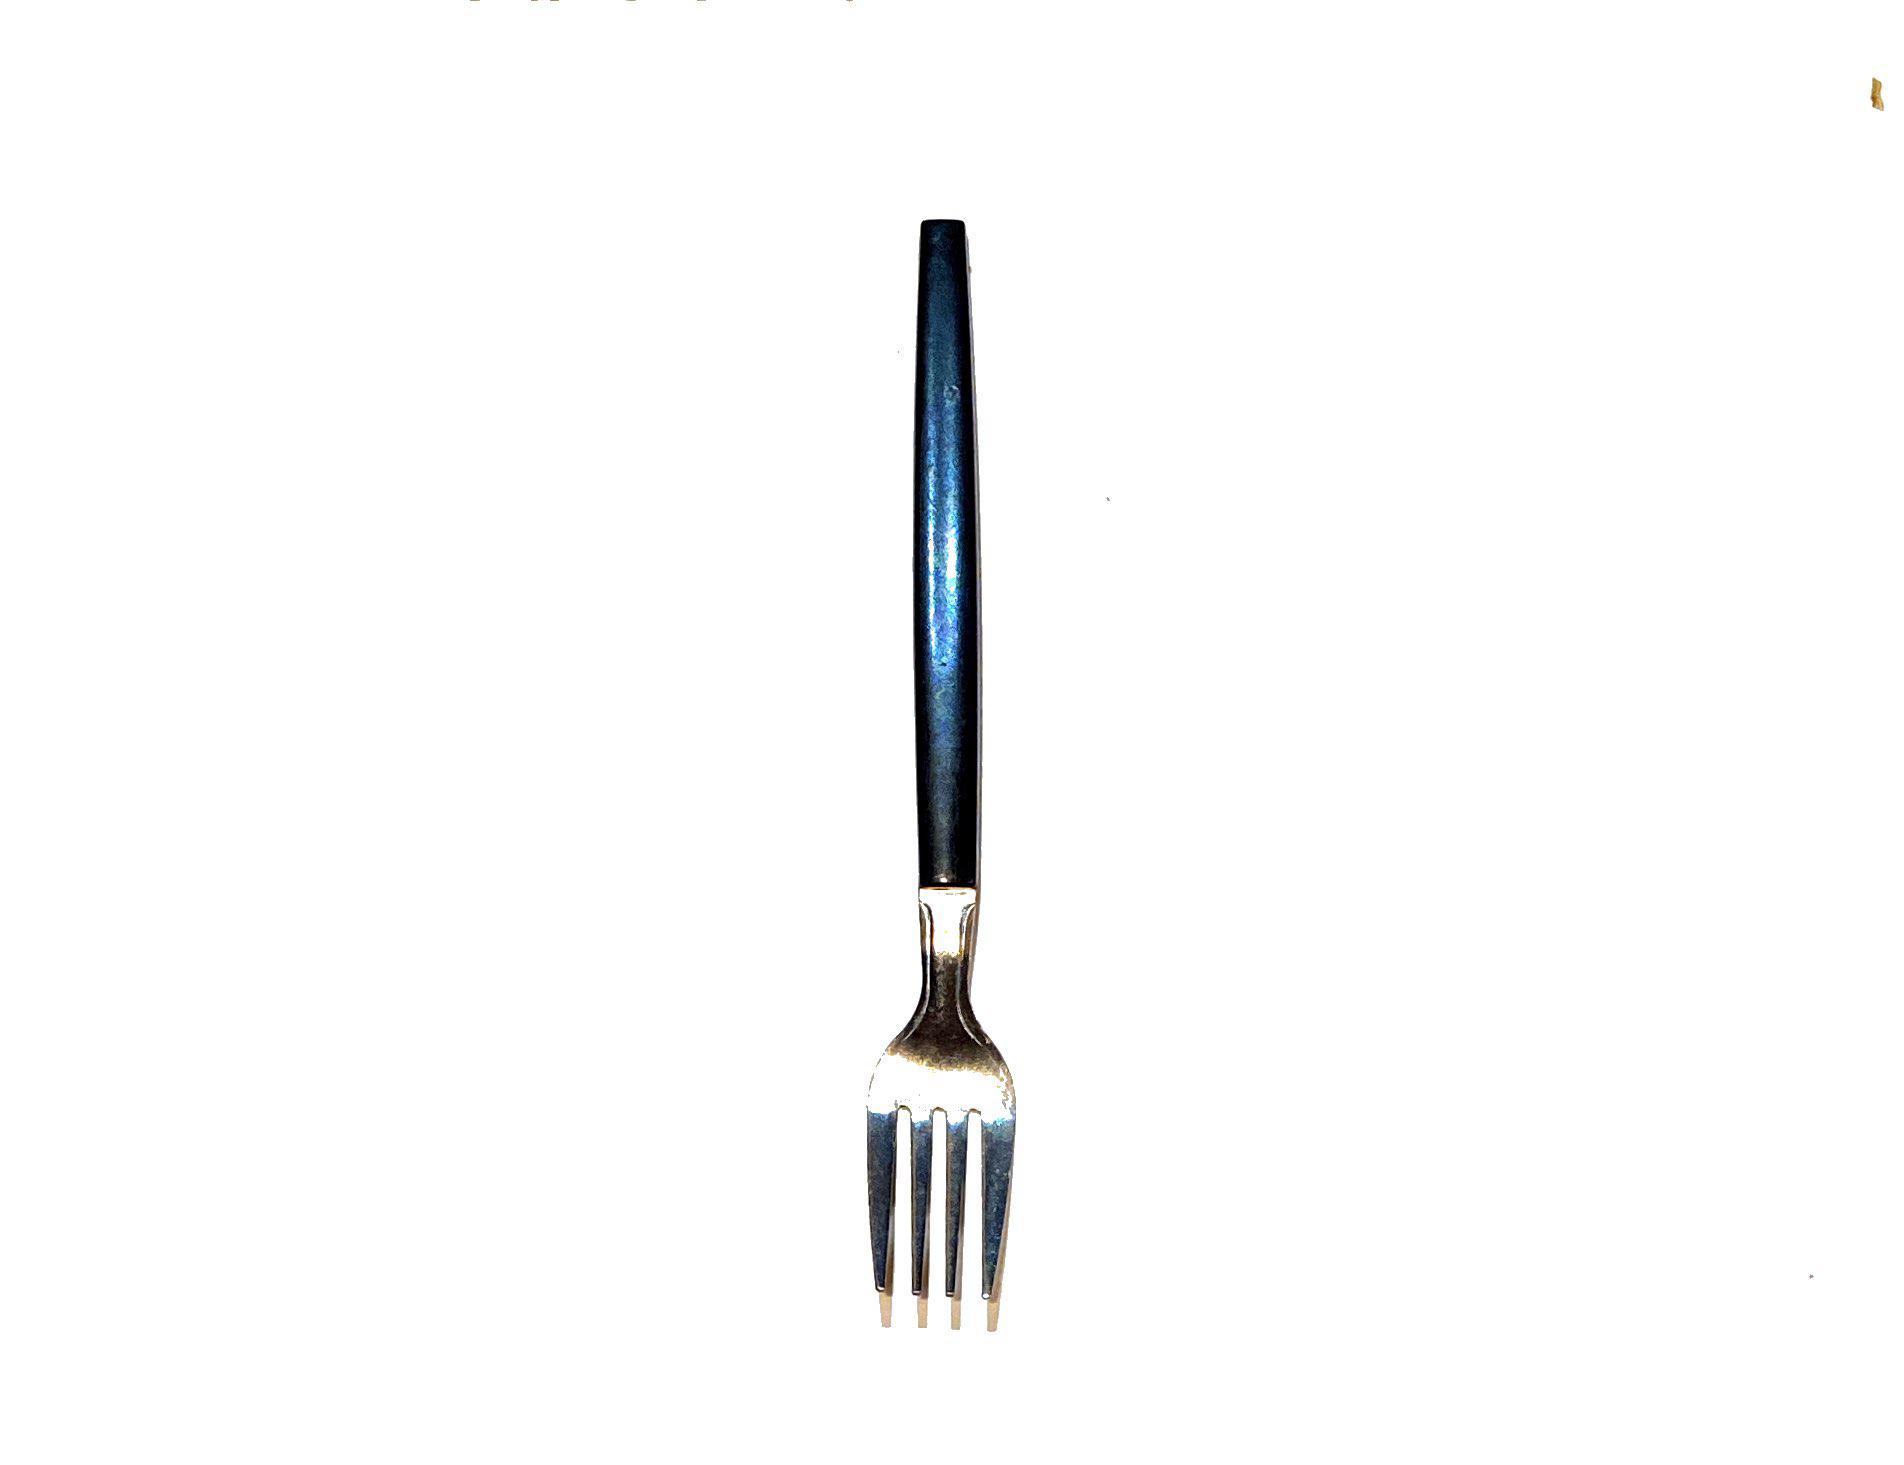Fork: (827, 185, 1088, 1367)
